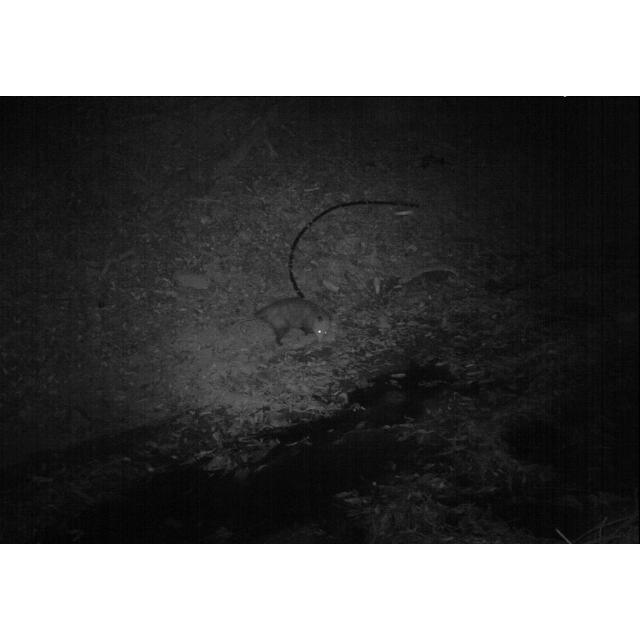animals: (248, 295, 336, 351)
